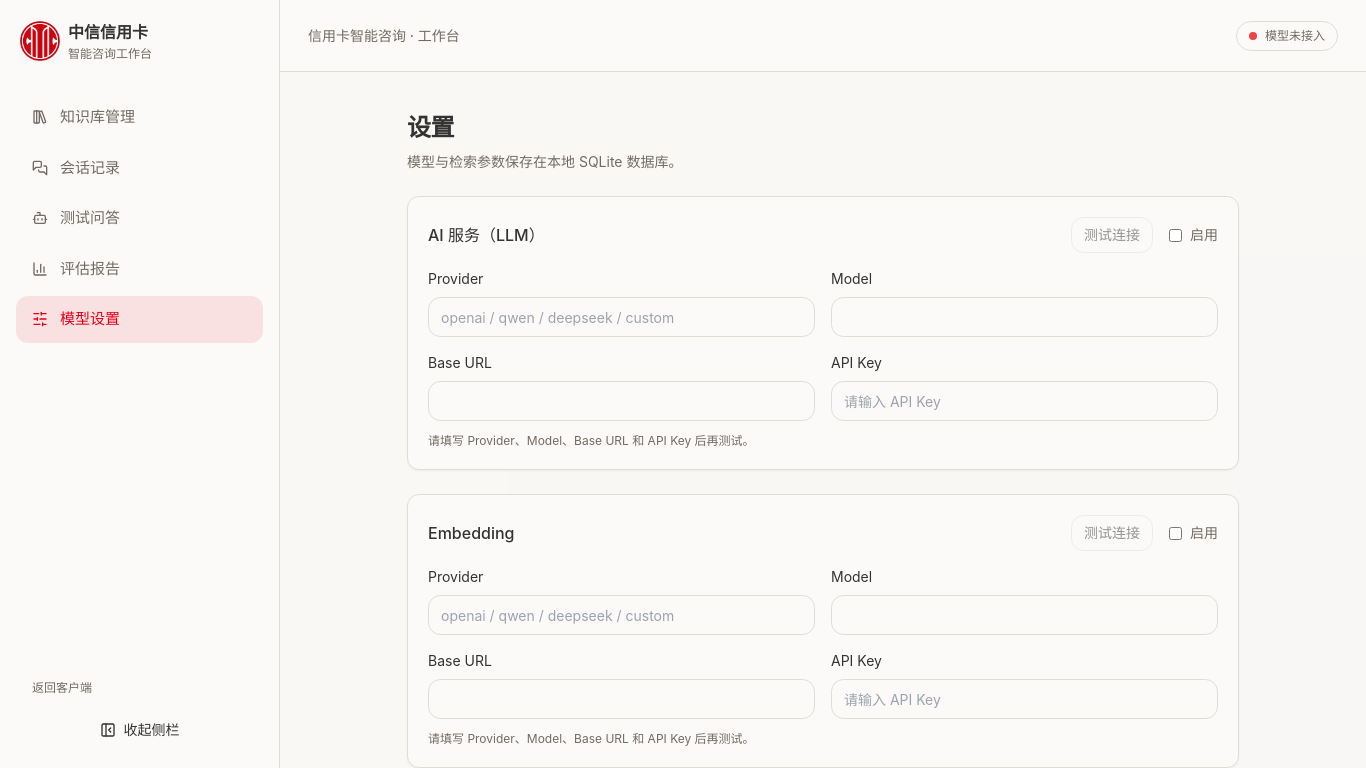
Test: App › tests model connection with the current form values
The image size is (1366, 768).
Step 1. Type "custom" into the field labelled "Provider" below "AI 服务（LLM）" → (622, 317), box left=428, top=297, right=815, bottom=337
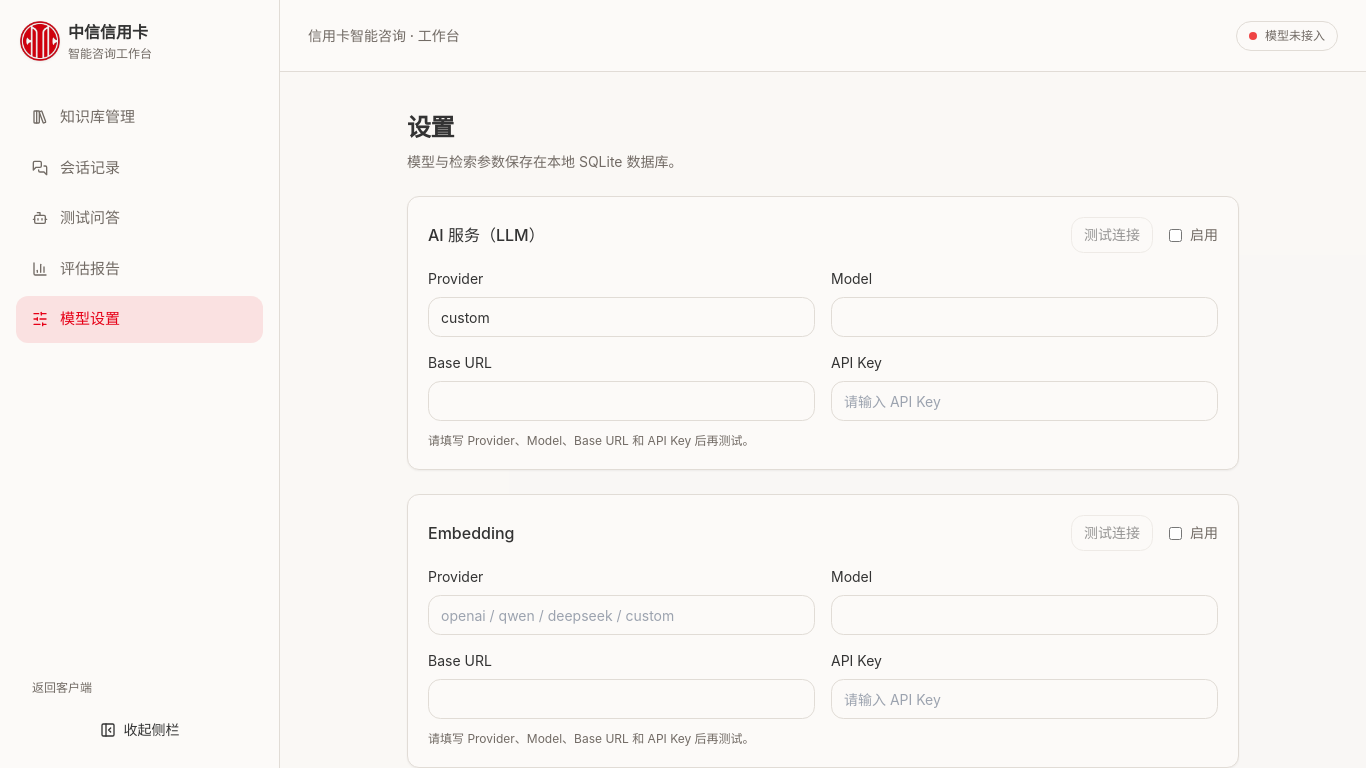
Step 2. Type "test-model" into the 1st field labelled "Model" → (1024, 317), box left=831, top=297, right=1218, bottom=337
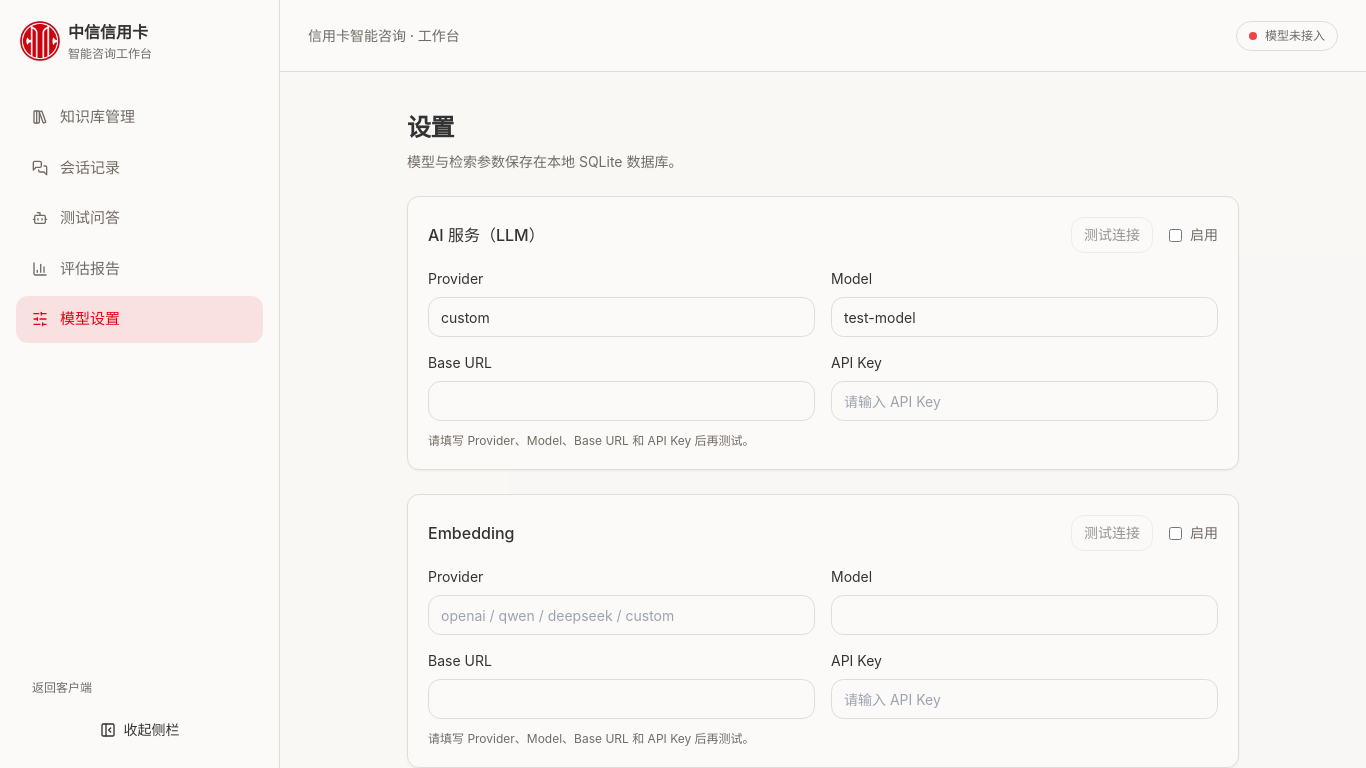
Step 3. Type "http://localhost:9999/v1" into the field labelled "Base URL" below "AI 服务（LLM）" → (622, 401), box left=428, top=381, right=815, bottom=421
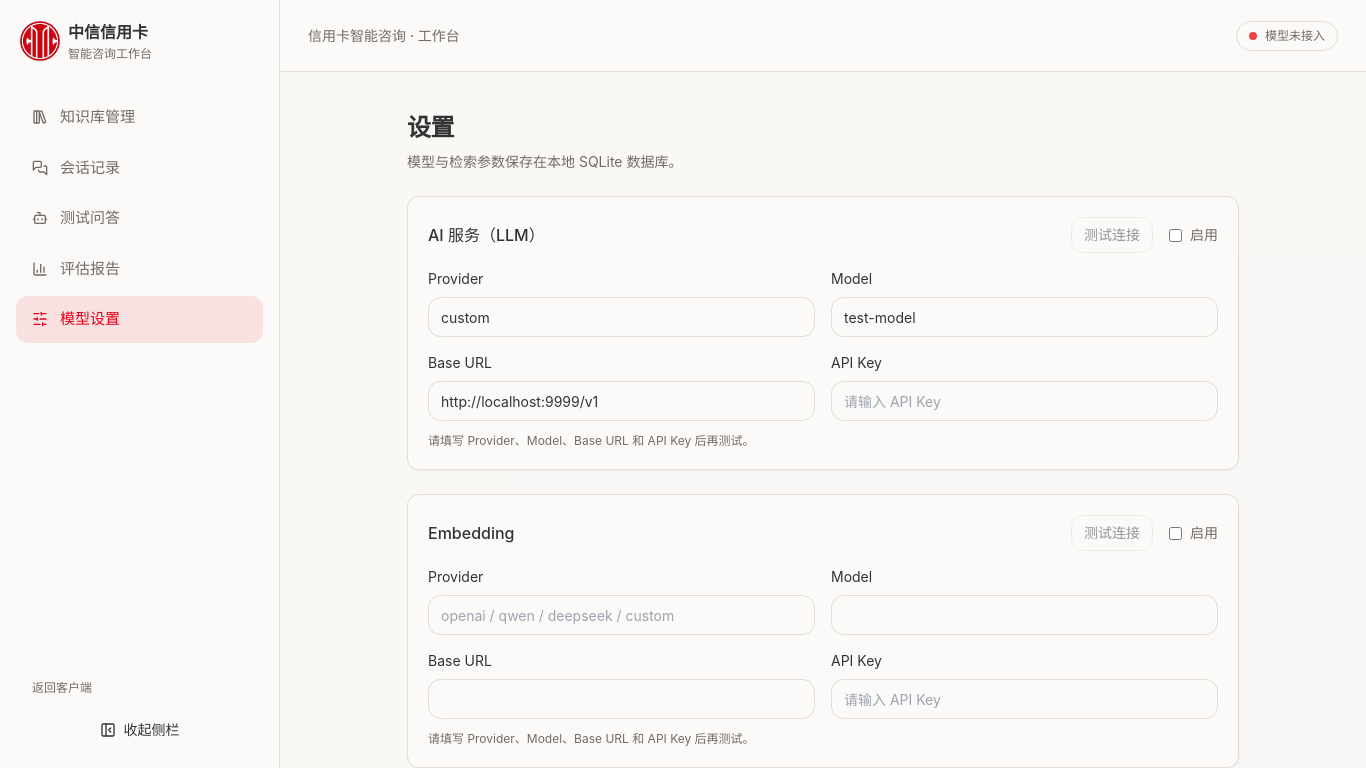
Step 4. Type "test-key" into the 1st password field labelled "API Key" → (1024, 401), box left=831, top=381, right=1218, bottom=421
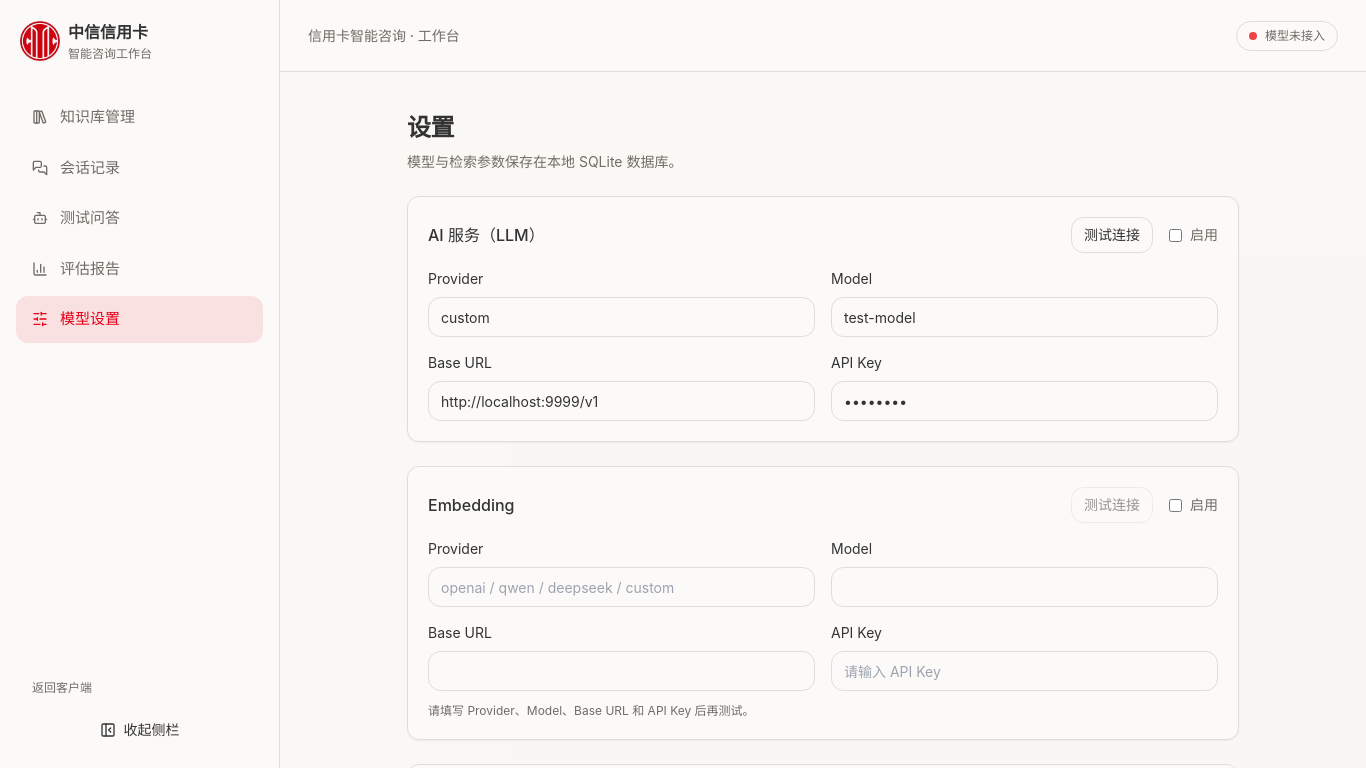
Step 5. Click the button "测试连接" in the row of "AI 服务（LLM）" → (1112, 235), box left=1071, top=217, right=1153, bottom=253
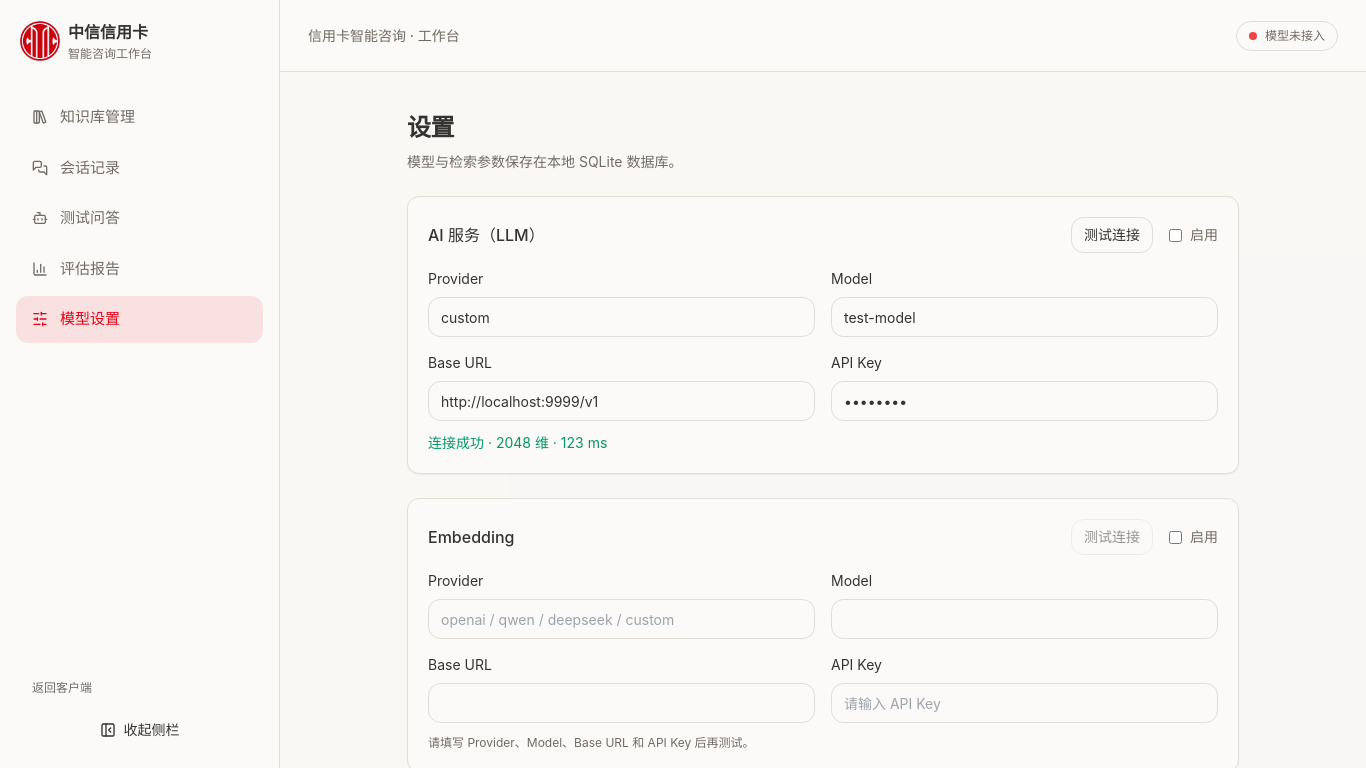
Expected: the text "连接成功 · 2048 维 · 123 ms" is shown, left=428, top=434, right=607, bottom=451
